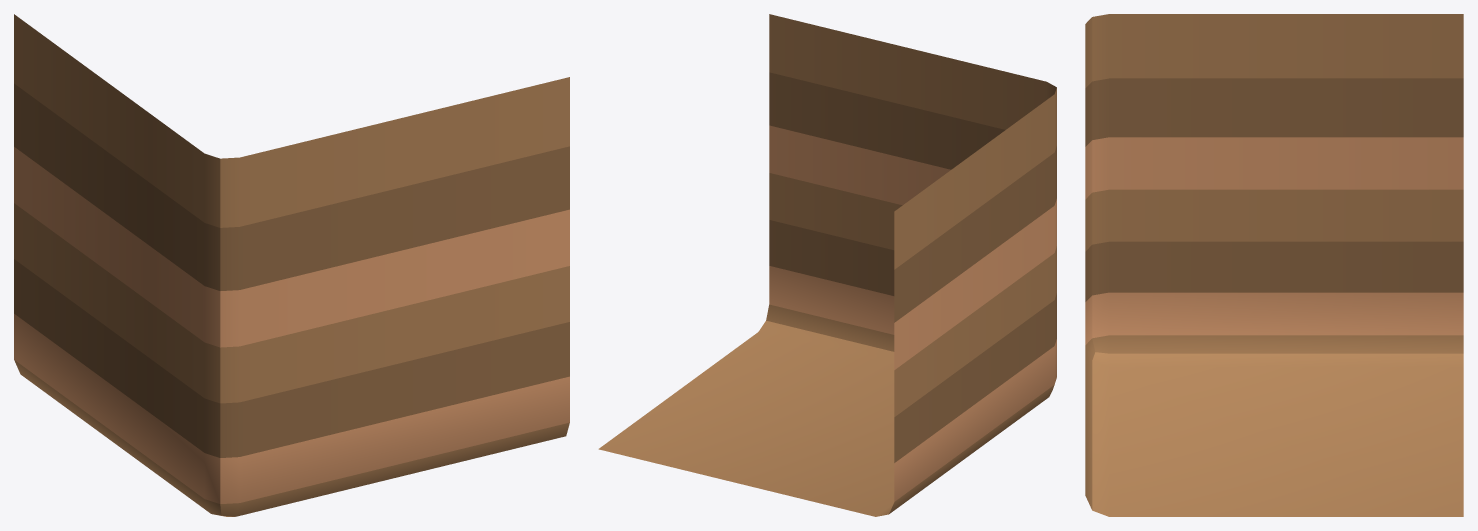
File: Cube_Grass_CornerBottom_Tall.gltf
3 renders of one model, left to right at view 1: azimuth 30°, elevation 25°; view 2: azimuth 150°, elevation 25°; view 3: azimuth 270°, elevation 25°, orthographic. The views are drawn at different scales.
Parts seen in each view (by area): view 1: Cube_Grass_CornerBottom_Tall; view 2: Cube_Grass_CornerBottom_Tall; view 3: Cube_Grass_CornerBottom_Tall.
Part boxes in pixels (bbox=[...]): Cube_Grass_CornerBottom_Tall: bbox=[14, 14, 569, 516]; Cube_Grass_CornerBottom_Tall: bbox=[598, 14, 1056, 516]; Cube_Grass_CornerBottom_Tall: bbox=[1085, 14, 1463, 516].
Bounding box in the file's own units: 2 × 2 × 2.
